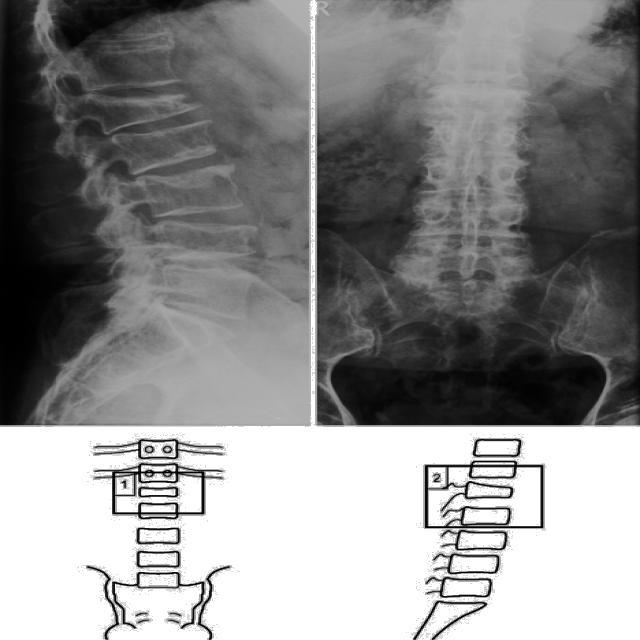Impact Fracture: (79, 86, 208, 128)
